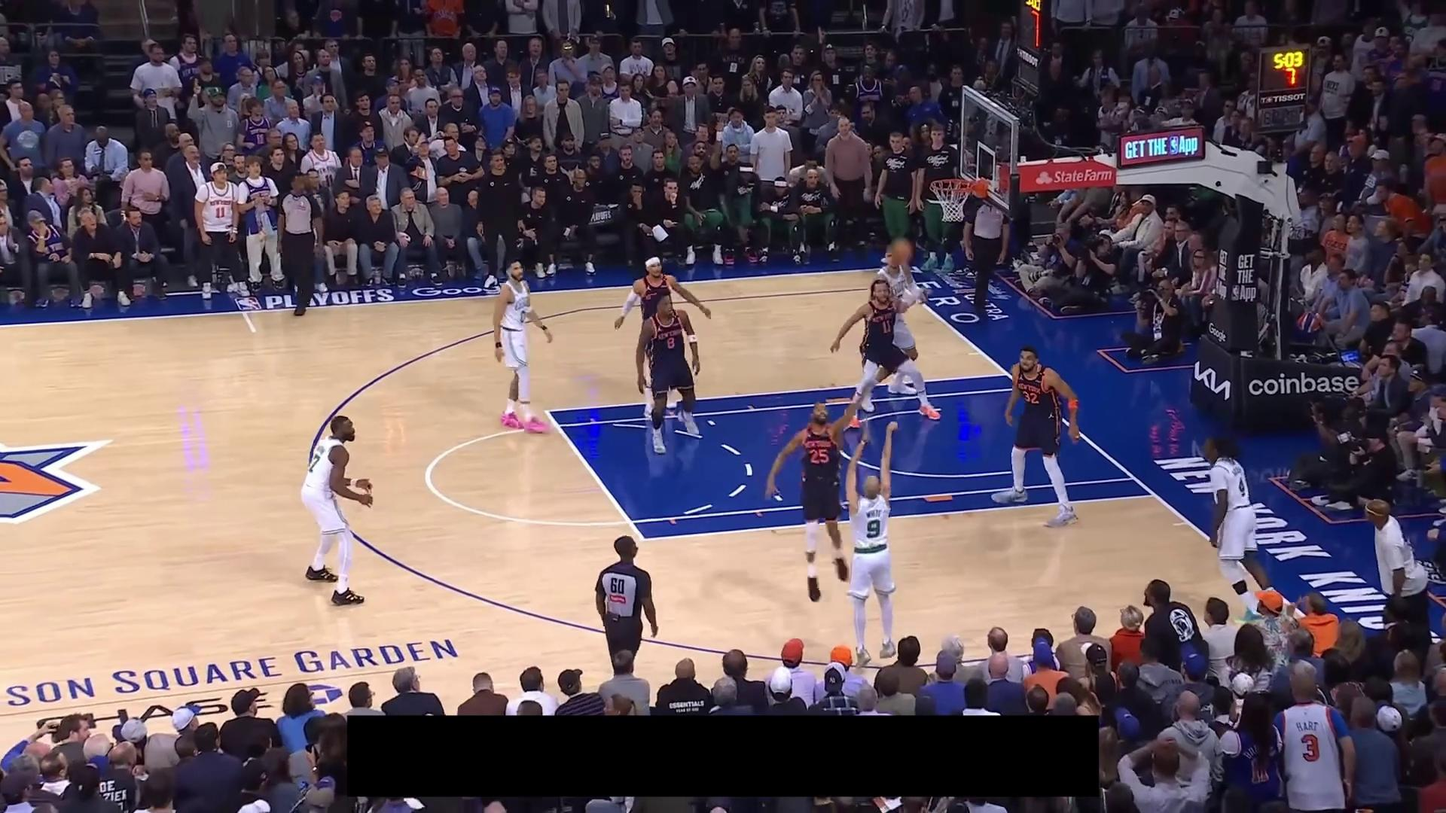ball: (889, 239, 911, 264)
number: (809, 447, 830, 464), (867, 519, 881, 538), (308, 453, 321, 472), (1023, 390, 1038, 404), (881, 318, 893, 334), (1237, 477, 1246, 497), (519, 307, 528, 324), (667, 336, 676, 350)
player: (1203, 434, 1305, 628), (829, 277, 941, 429), (990, 343, 1081, 528), (613, 254, 712, 418), (300, 413, 374, 607), (634, 291, 704, 455), (490, 257, 554, 435), (857, 243, 919, 412)
player-jump-shot: (843, 418, 899, 669)
player-shot-block: (763, 386, 871, 603)
referee: (594, 534, 658, 677), (275, 170, 325, 316), (962, 197, 1011, 315)
rim: (929, 178, 975, 193)
